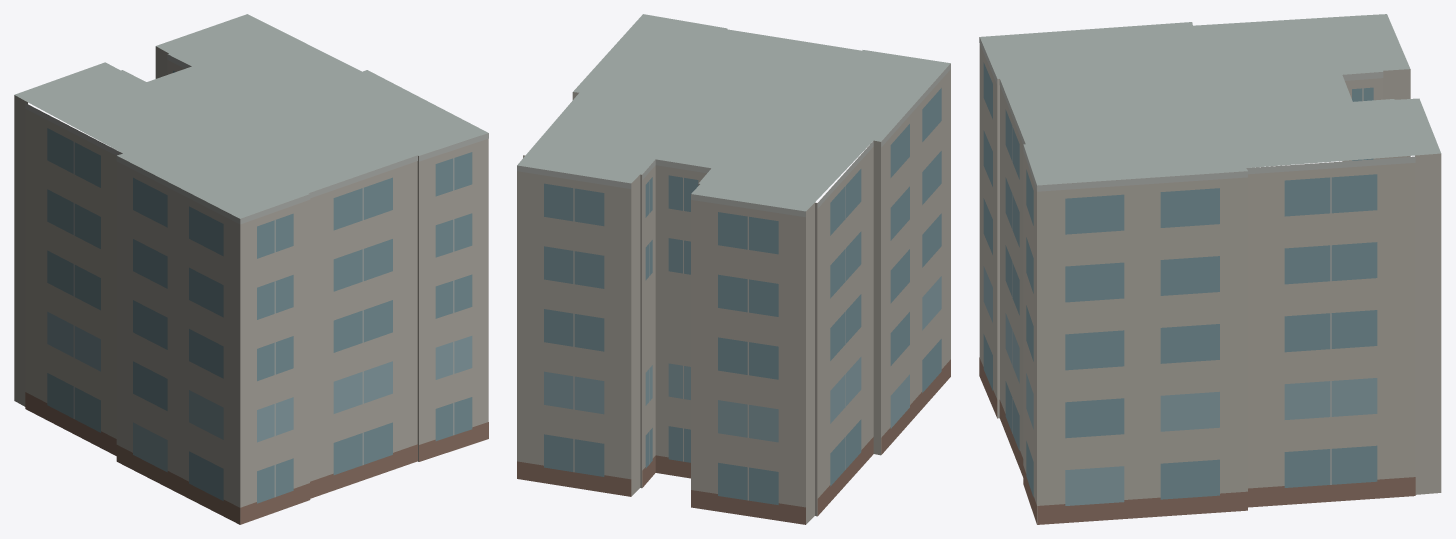
Rendered from survey-upis-32736061.glb.
The picture shows the model from 3 angles, left to right: view 1: azimuth 30°, elevation 25°; view 2: azimuth 150°, elevation 25°; view 3: azimuth 270°, elevation 25°; orthographic projection. The views are drawn at different scales.
Visible parts, largest first — view 1: survey-upis-32736061.tmp; view 2: survey-upis-32736061.tmp; view 3: survey-upis-32736061.tmp.
Boxes of the visible parts, left/top/right/bottom form: survey-upis-32736061.tmp: left=14, top=14, right=488, bottom=524; survey-upis-32736061.tmp: left=517, top=14, right=950, bottom=524; survey-upis-32736061.tmp: left=979, top=14, right=1441, bottom=524.
Size of the model in its own units: 14.31 by 13.2 by 16.28.
